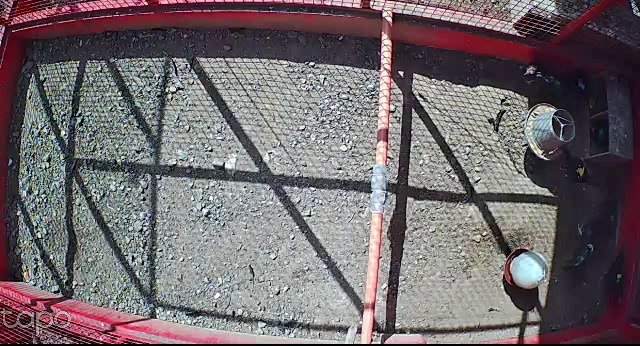Chicken: (559, 148, 603, 192), (599, 243, 627, 307)
Drinker: (502, 246, 550, 289)
Feeder: (523, 101, 576, 161)
Rooster: (560, 205, 619, 271)
Saddle_Color_Yellow: (577, 165, 586, 176)
Saddle_Color_YellowGreen: (616, 273, 622, 282)
